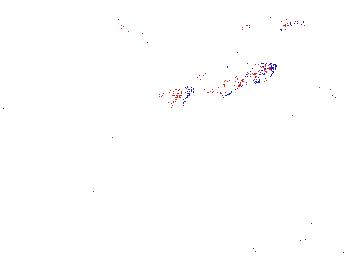X-ray fish: (48, 32, 119, 71)
glassfish: (223, 101, 324, 170)
red belly glassfish: (286, 17, 316, 30)
redtail glassfish: (164, 60, 279, 113), (231, 18, 291, 58), (274, 78, 344, 107), (115, 13, 153, 46)
